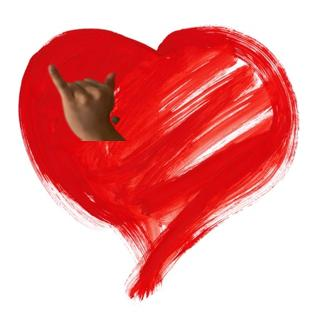HAVE: (41, 57, 125, 133)
